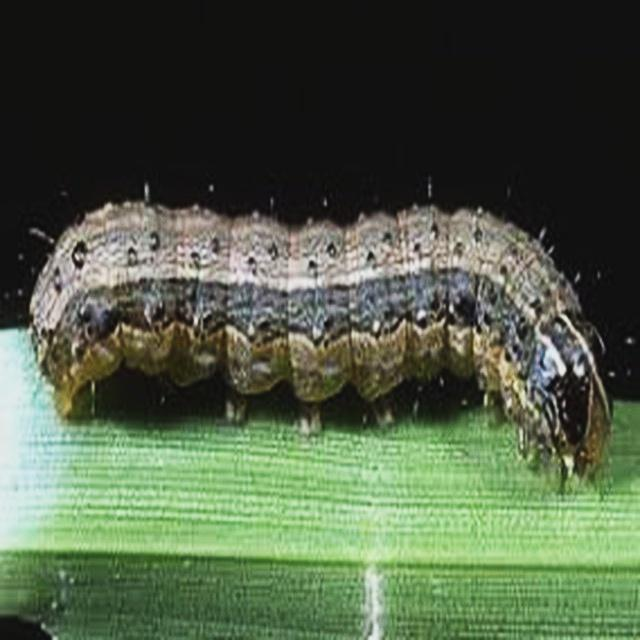gusano_cogollero: (19, 174, 629, 502)
